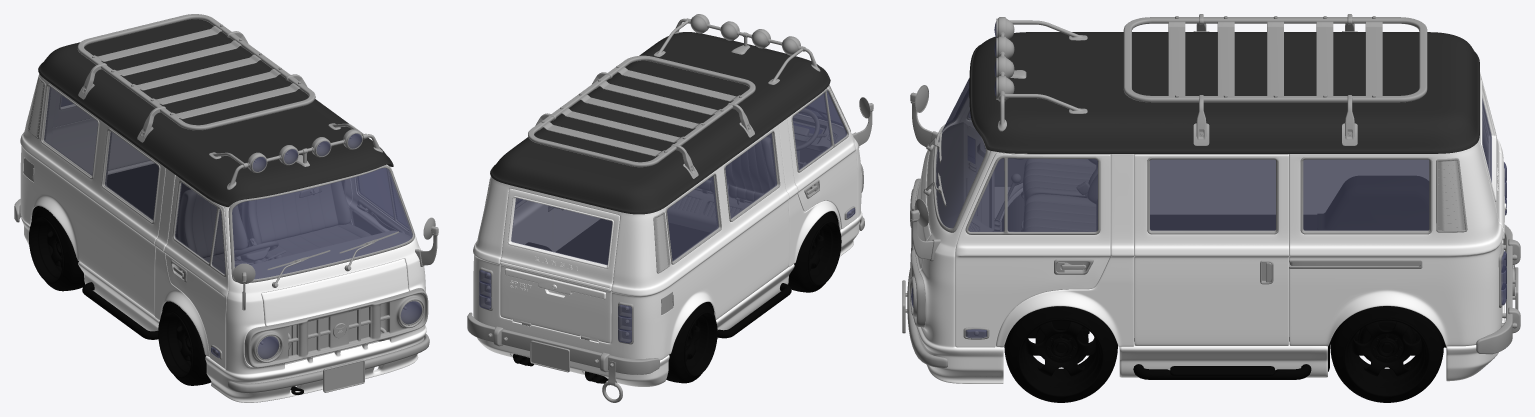
The model's file is slamvan.glb.
3 views of the same model, side by side, from view 1: azimuth 30°, elevation 25°; view 2: azimuth 150°, elevation 25°; view 3: azimuth 270°, elevation 25° (orthographic). The views are drawn at different scales.
Parts seen in each view (by area): view 1: main_details, r_door, back_wheel, front_wheel, l_door, back_bottom_door, back_top_door; view 2: main_details, back_top_door, r_door, back_bottom_door, front_wheel, back_wheel, side_door; view 3: main_details, side_door, l_door, back_wheel, front_wheel, back_top_door, r_door.
Boxes of the visible parts, <box> form: main_details: <box>14,14,438,402</box>; r_door: <box>164,175,228,368</box>; back_wheel: <box>29,207,85,291</box>; front_wheel: <box>158,301,211,385</box>; l_door: <box>349,168,411,236</box>; back_bottom_door: <box>52,118,150,174</box>; back_top_door: <box>53,92,91,127</box>; main_details: <box>467,14,873,402</box>; back_top_door: <box>500,188,619,288</box>; r_door: <box>787,87,857,228</box>; back_bottom_door: <box>500,262,611,343</box>; front_wheel: <box>788,212,841,292</box>; back_wheel: <box>666,302,717,383</box>; side_door: <box>553,207,600,251</box>; main_details: <box>902,14,1520,383</box>; side_door: <box>1134,154,1289,345</box>; l_door: <box>955,153,1110,347</box>; back_wheel: <box>1330,306,1443,402</box>; front_wheel: <box>1004,306,1117,402</box>; back_top_door: <box>1478,74,1502,226</box>; r_door: <box>960,103,1027,217</box>.
Bounding box in the file's own units: 2.32 × 2.43 × 4.6.
